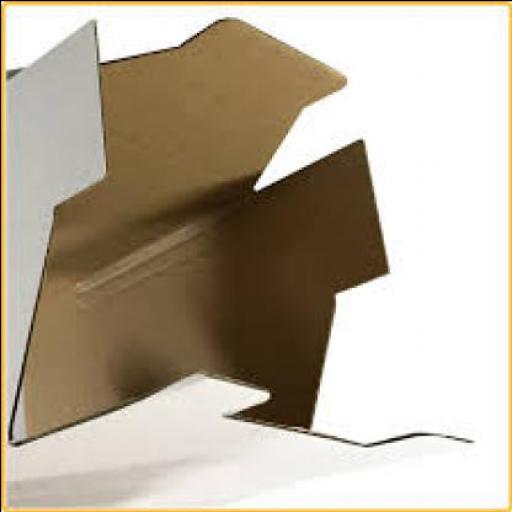cardboard: (7, 18, 473, 510)
